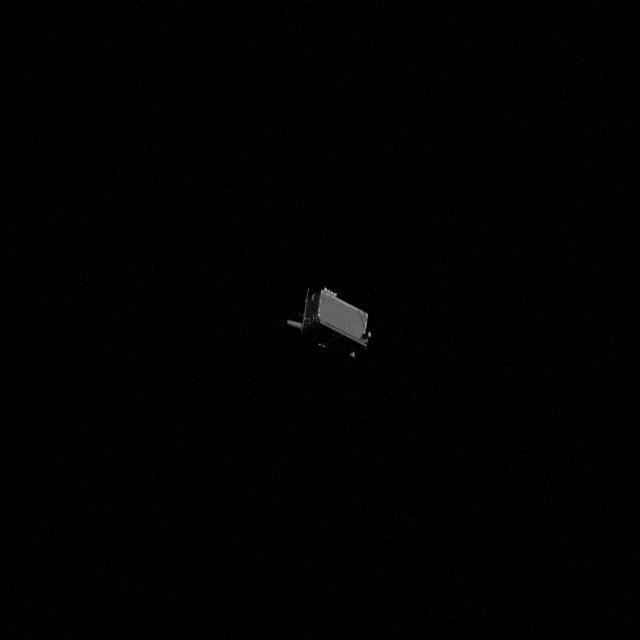satellite: (284, 286, 372, 362)
